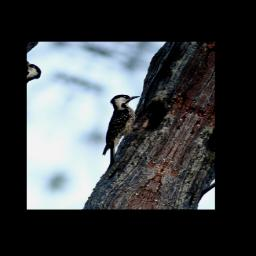Woodpecker: (78, 87, 165, 171)
